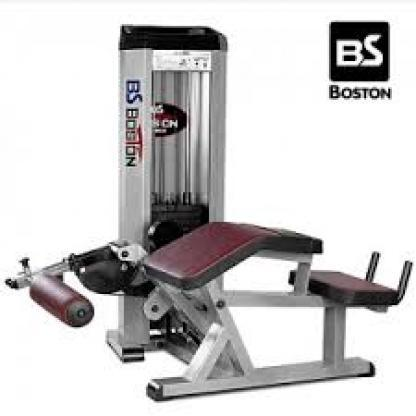reg curl machine: (6, 16, 415, 403)
